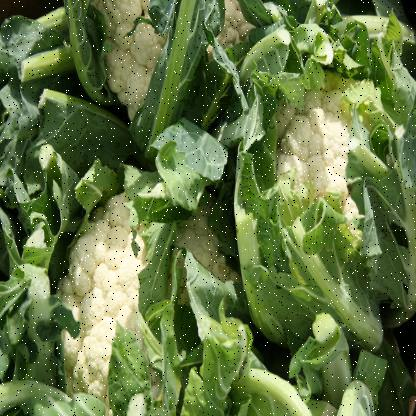cauliflower: (240, 65, 416, 328), (26, 171, 215, 408)
